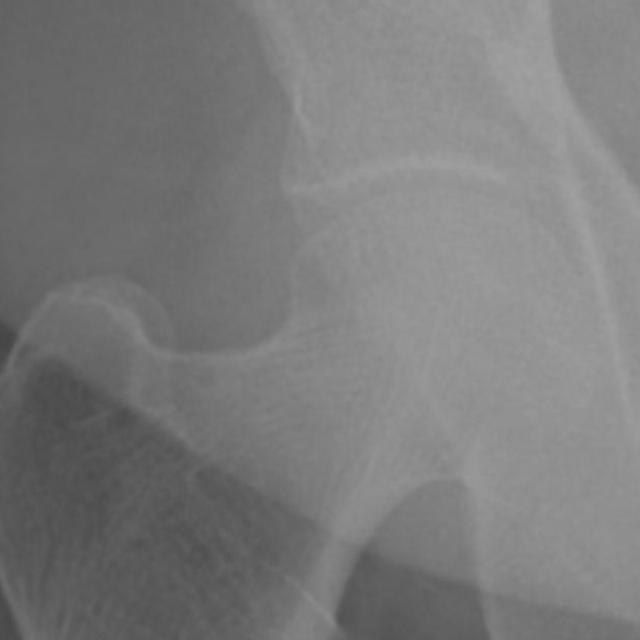Fitted_femural_head: (312, 185, 432, 312)
